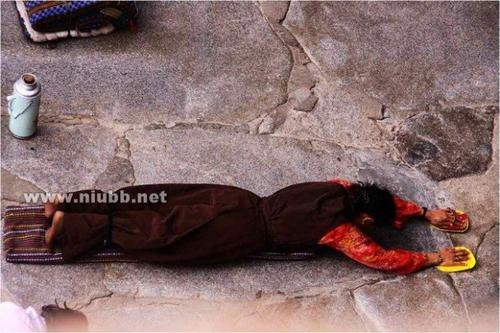falling: (21, 171, 479, 294)
